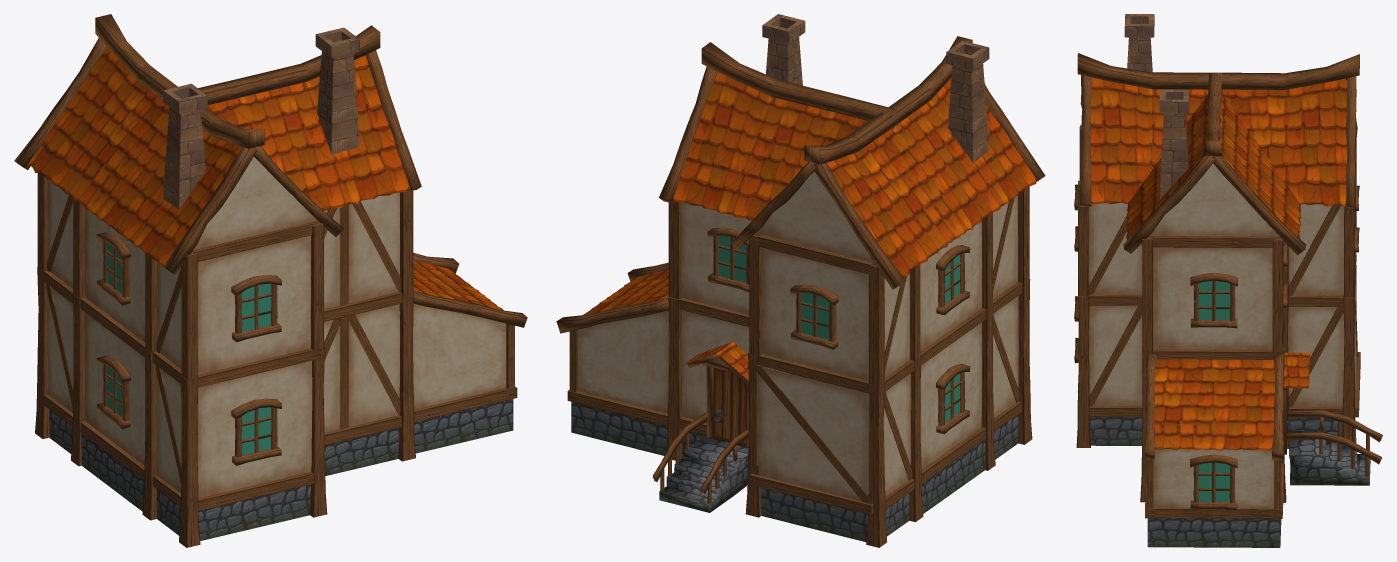
File: casa4.fbx
3 views of the same model, side by side, from view 1: azimuth 30°, elevation 25°; view 2: azimuth 150°, elevation 25°; view 3: azimuth 270°, elevation 25° (orthographic). The views are drawn at different scales.
Visible parts, largest first — view 1: RH6; view 2: RH6; view 3: RH6.
Part boxes in pixels (left/top/right/bottom): RH6: left=14, top=14, right=527, bottom=547; RH6: left=556, top=14, right=1045, bottom=547; RH6: left=1074, top=14, right=1382, bottom=547.
Bounding box in the file's own units: 625 × 632 × 464.
